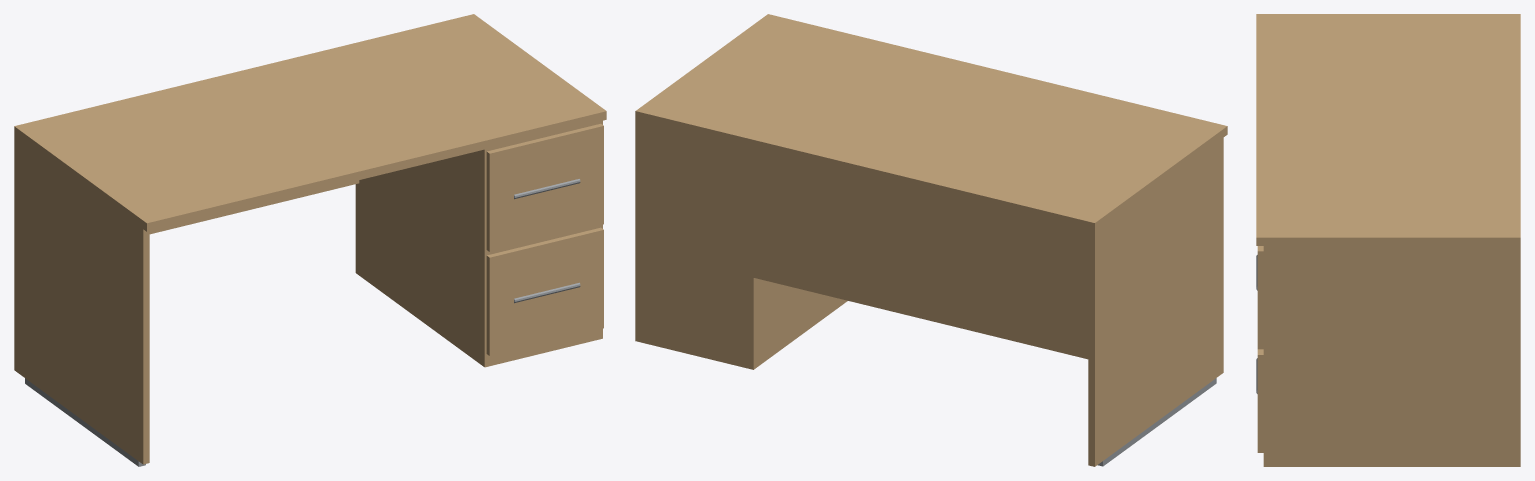
File: original-desk-work.glb
3 views of the same model, side by side, from view 1: azimuth 30°, elevation 25°; view 2: azimuth 150°, elevation 25°; view 3: azimuth 270°, elevation 25° (orthographic).
Visible parts, largest first — view 1: original-desk-work; view 2: original-desk-work; view 3: original-desk-work.
Boxes of the visible parts, bbox=[...] form: original-desk-work: bbox=[14, 14, 606, 466]; original-desk-work: bbox=[635, 14, 1227, 466]; original-desk-work: bbox=[1256, 14, 1520, 466].
Bounding box in the file's own units: 1.4 × 0.73 × 0.7.
